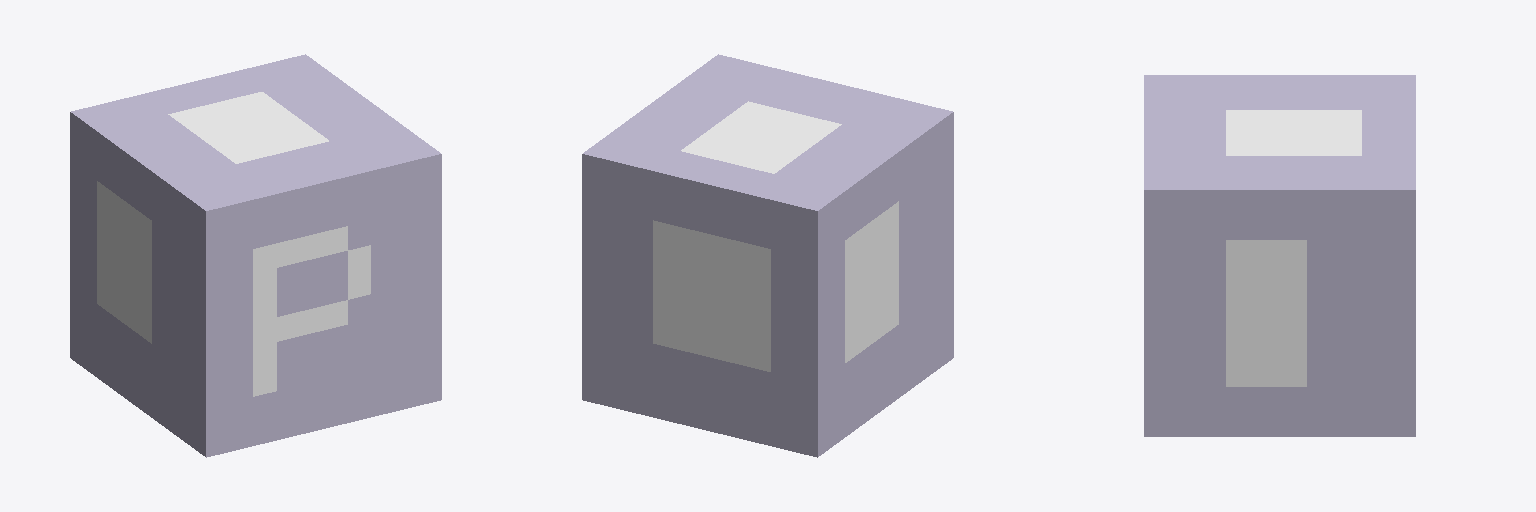
3 renders of one model, left to right at view 1: azimuth 30°, elevation 25°; view 2: azimuth 150°, elevation 25°; view 3: azimuth 270°, elevation 25°, orthographic.
Parts seen in each view (by area): view 1: object 1; view 2: object 1; view 3: object 1.
Boxes of the visible parts, <box> form: object 1: <box>70,54,441,457</box>; object 1: <box>582,54,953,457</box>; object 1: <box>1144,75,1415,436</box>.
Size of the model in its own units: 1 by 1 by 1.
Materials: 1 (1 with a texture image).